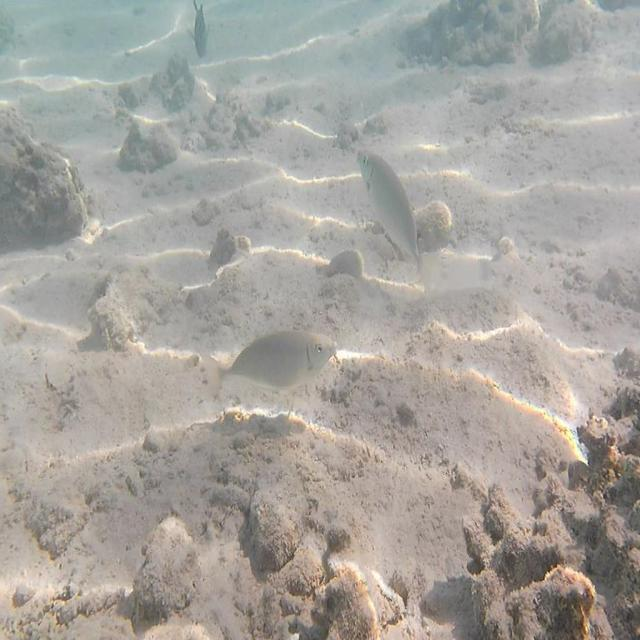Sokar Baligi: (348, 134, 439, 294), (198, 314, 338, 409)
